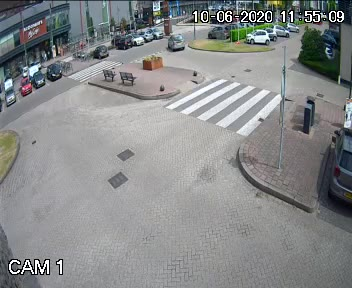car: (165, 30, 184, 54)
